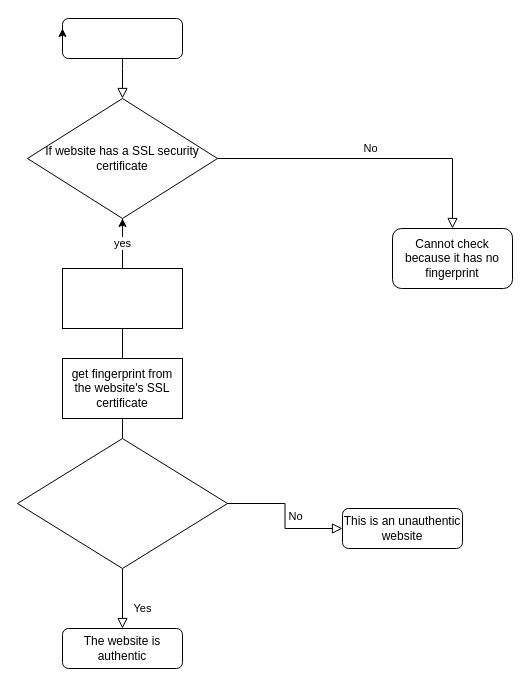
This 530x686 diagram has some shape labels left out. Each missing label, with the centre of its shape:
Algorithm starts to check a website's authenticity: point (122, 38)
Check to see if both fingerprints match: point (122, 503)
enter URL into GRC website to find actual fingerprint: point (122, 298)
